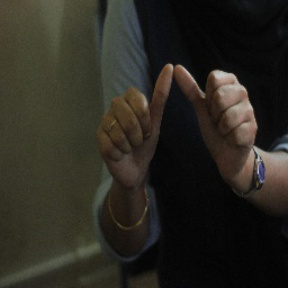A: (104, 66, 254, 161)
